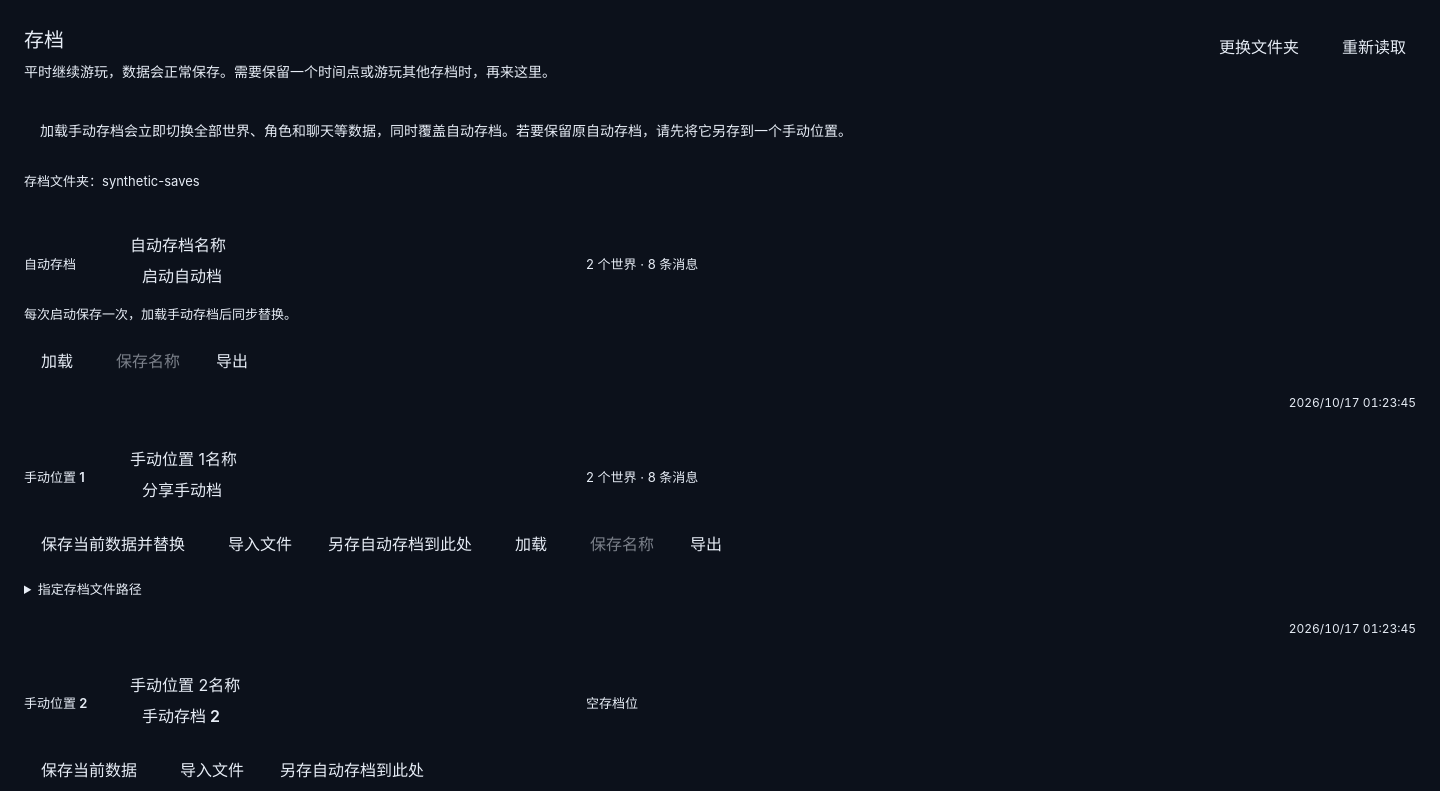
Scenario: copies the actual automatic save instead of requesting a current-data save
Step 1. Click the 2nd button "另存自动存档到此处" → (352, 770), box [270,750,434,788]
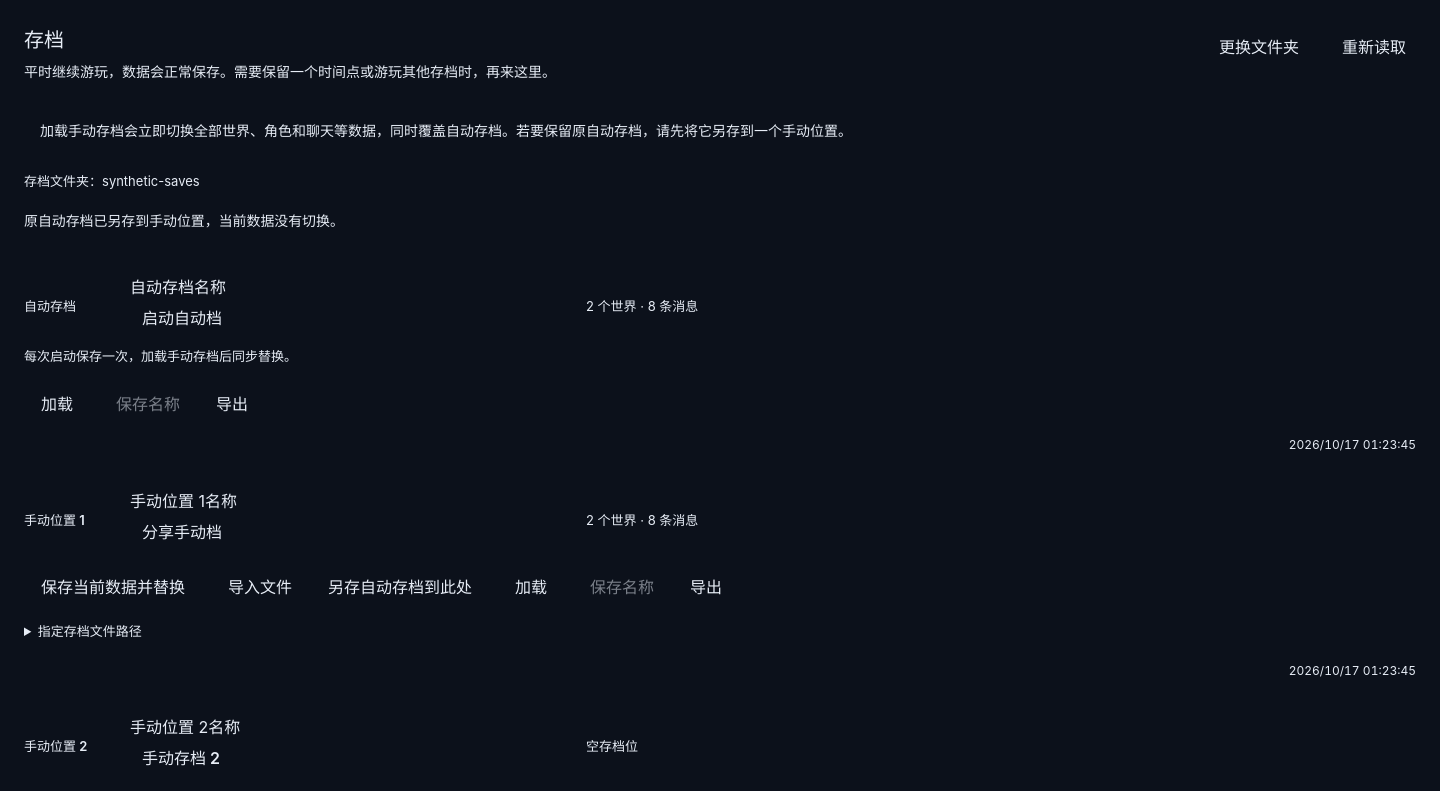
Check: the message shows "当前数据没有切换", box [24,213,344,229]
